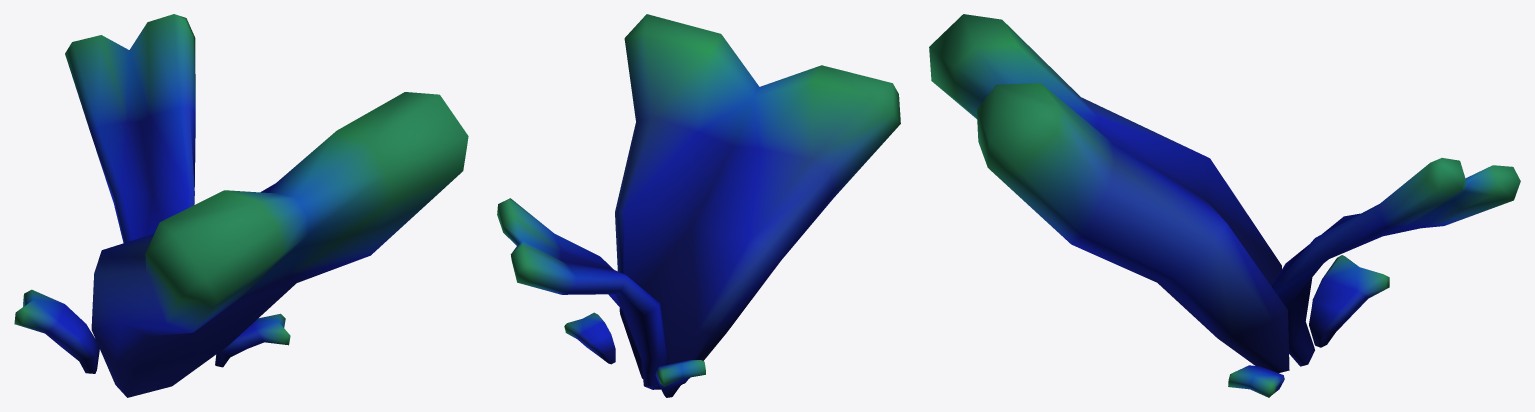
File: Alien_Grass03.fbx
The picture shows the model from 3 angles, left to right: view 1: azimuth 30°, elevation 25°; view 2: azimuth 150°, elevation 25°; view 3: azimuth 270°, elevation 25°; orthographic projection. The views are drawn at different scales.
Parts seen in each view (by area): view 1: Alien_Grass03; view 2: Alien_Grass03; view 3: Alien_Grass03.
Part boxes in pixels (box(x1,y1,x2,y2)): Alien_Grass03: box(14, 14, 468, 397); Alien_Grass03: box(497, 14, 900, 397); Alien_Grass03: box(929, 14, 1520, 397).
Size of the model in its own units: 2321 by 2352 by 3819.
